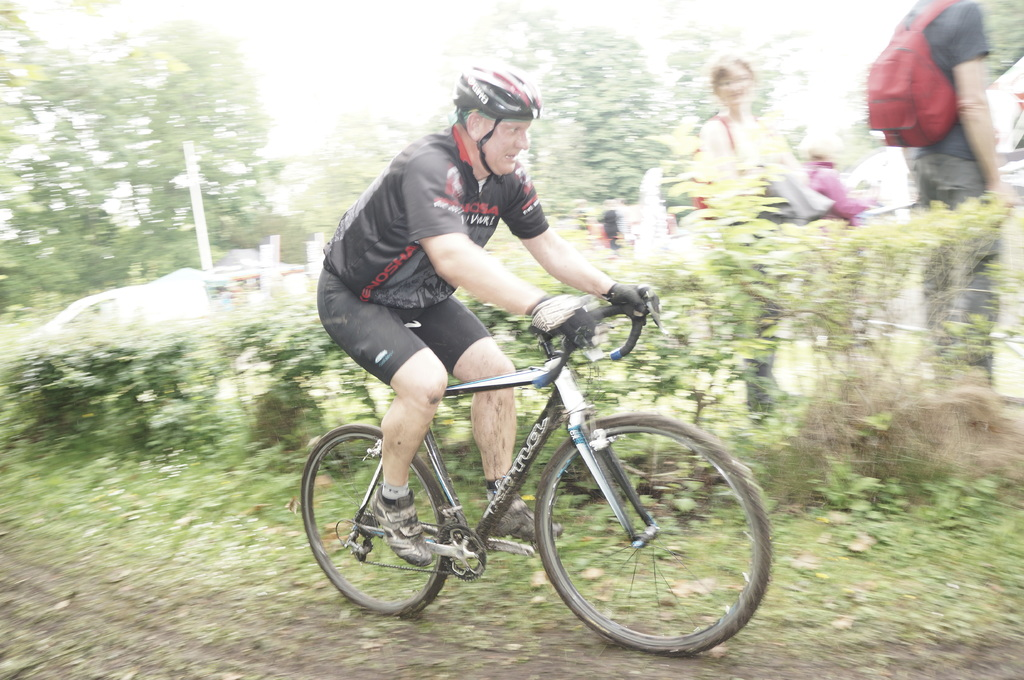Bike: (272, 300, 813, 675)
